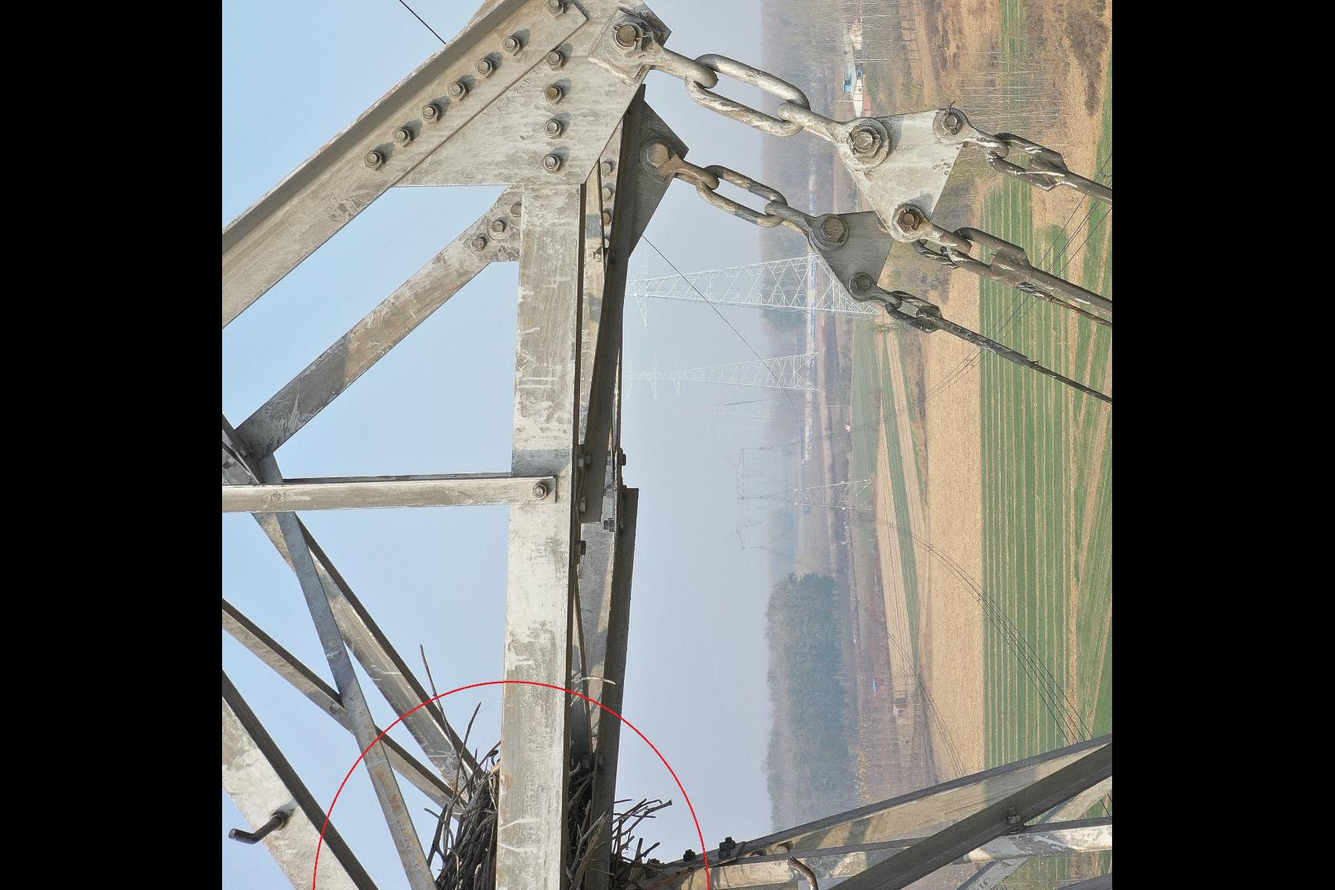nest: (412, 718, 689, 890)
